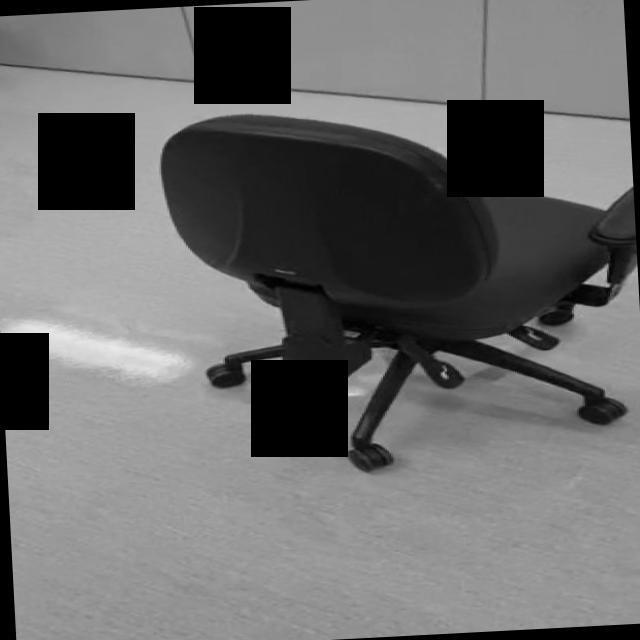chair: (158, 91, 640, 482)
